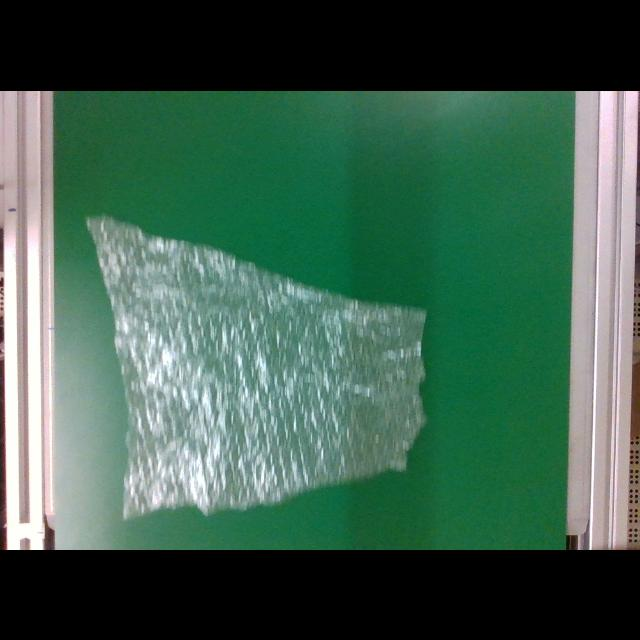scrap_plastic: (80, 211, 428, 524)
